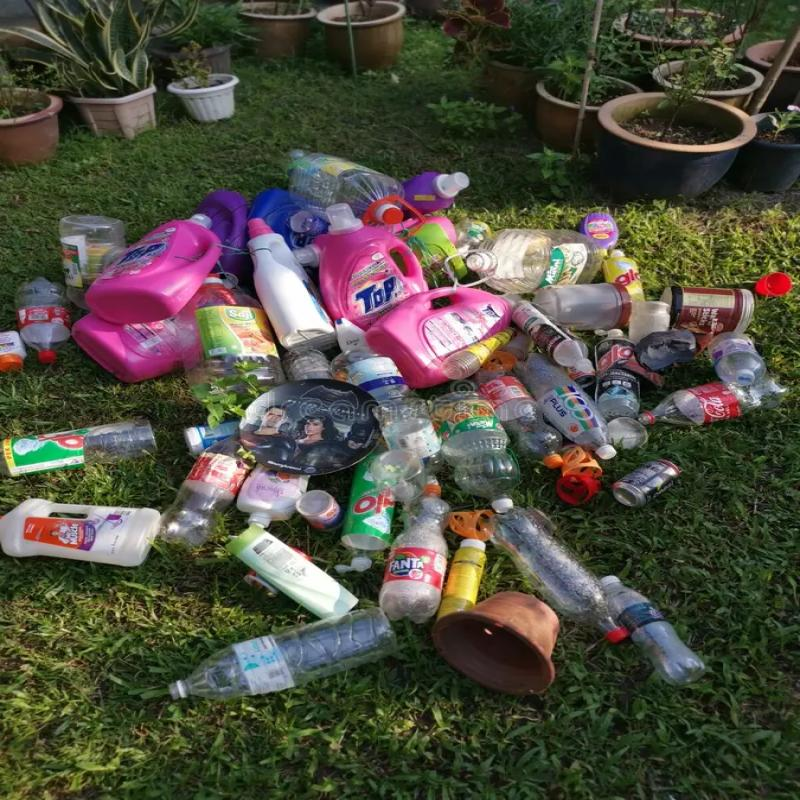botella: (155, 603, 410, 709), (480, 496, 605, 609), (602, 568, 715, 690), (148, 436, 248, 556), (522, 354, 622, 461), (378, 481, 451, 624), (436, 392, 522, 510), (628, 370, 786, 425), (471, 367, 563, 459), (374, 395, 453, 480), (331, 346, 423, 409), (16, 272, 71, 366), (700, 328, 769, 386), (273, 342, 342, 383)
